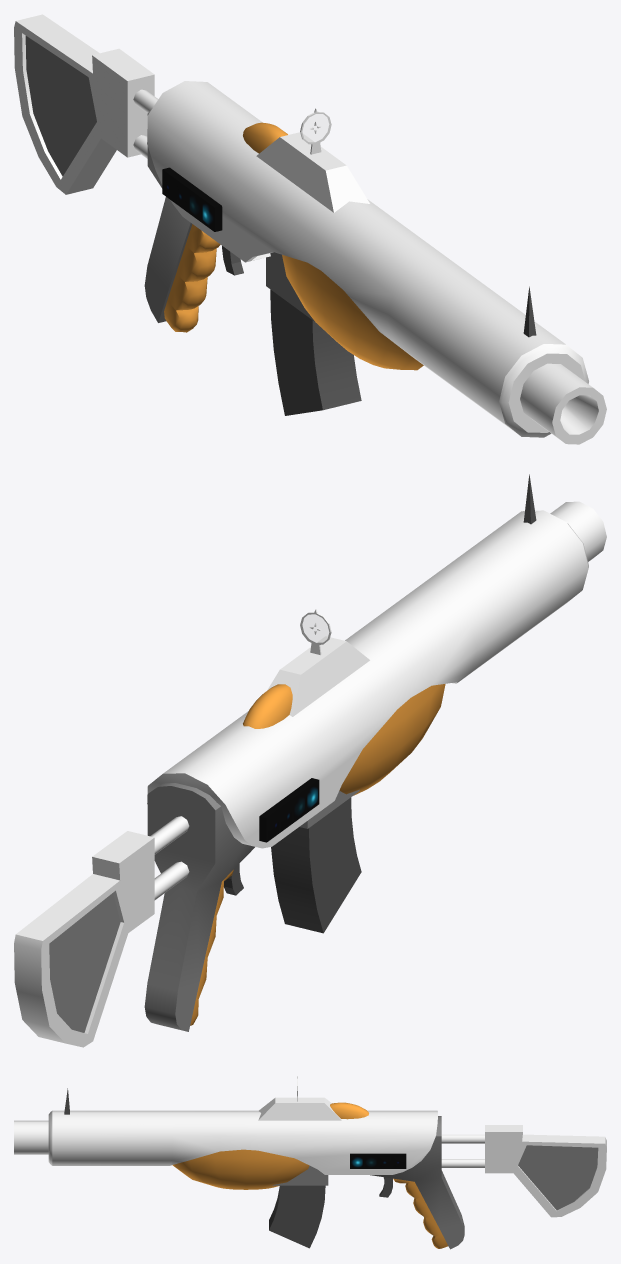
Rendered from rifle.gltf.
3 renders of one model, top to bottom at view 1: azimuth 30°, elevation 25°; view 2: azimuth 150°, elevation 25°; view 3: azimuth 270°, elevation 25°, orthographic. The views are drawn at different scales.
Visible parts, largest first — view 1: Rifle (×5), blips; view 2: Rifle (×5), blips; view 3: Rifle (×5), blips.
Boxes of the visible parts, bbox=[...] form: Rifle (×5): bbox=[14, 14, 606, 444]; blips: bbox=[162, 167, 222, 231]; Rifle (×5): bbox=[14, 474, 606, 1047]; blips: bbox=[259, 778, 319, 842]; Rifle (×5): bbox=[14, 1088, 606, 1249]; blips: bbox=[350, 1153, 406, 1168].
Size of the model in its own units: 0.0841 by 0.238 by 0.7439.
